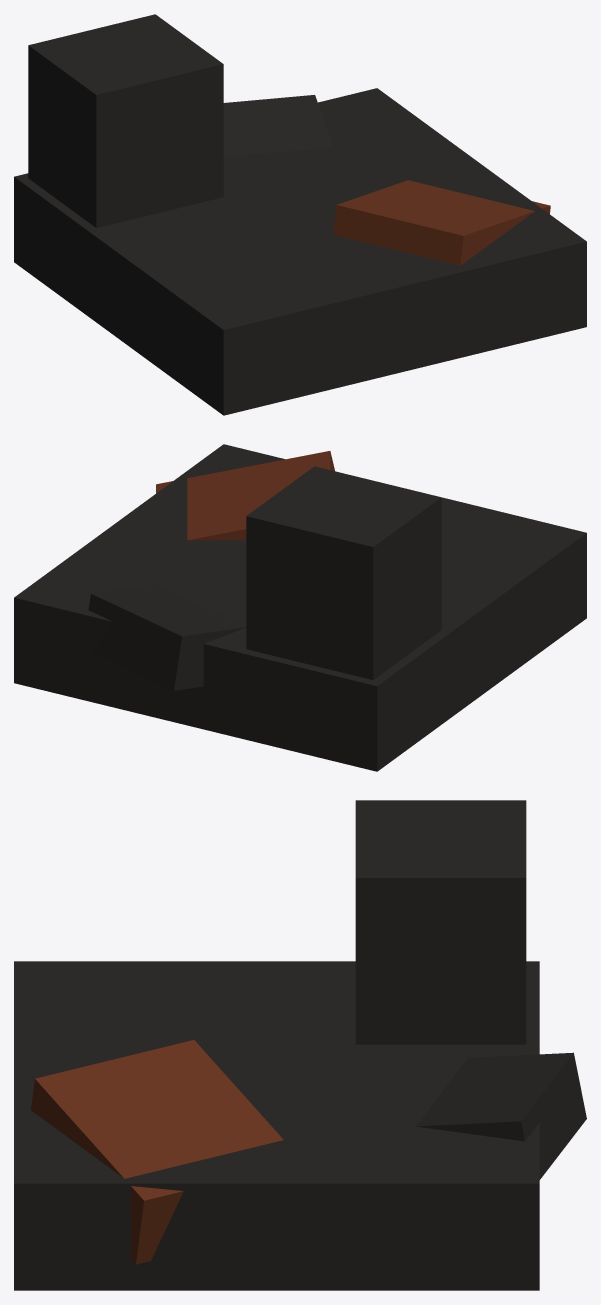
The model's file is RF_Prop_BuildingB_Destroyed.glb.
3 renders of one model, top to bottom at view 1: azimuth 30°, elevation 25°; view 2: azimuth 150°, elevation 25°; view 3: azimuth 270°, elevation 25°, orthographic. The views are drawn at different scales.
Visible parts, largest first — view 1: RF_Prop_BuildingB_Destroyed; view 2: RF_Prop_BuildingB_Destroyed; view 3: RF_Prop_BuildingB_Destroyed.
Boxes of the visible parts, <box> form: RF_Prop_BuildingB_Destroyed: <box>14,14,586,415</box>; RF_Prop_BuildingB_Destroyed: <box>14,444,586,771</box>; RF_Prop_BuildingB_Destroyed: <box>14,800,586,1290</box>.
Size of the model in its own units: 4.17 by 2.3 by 4.36.
